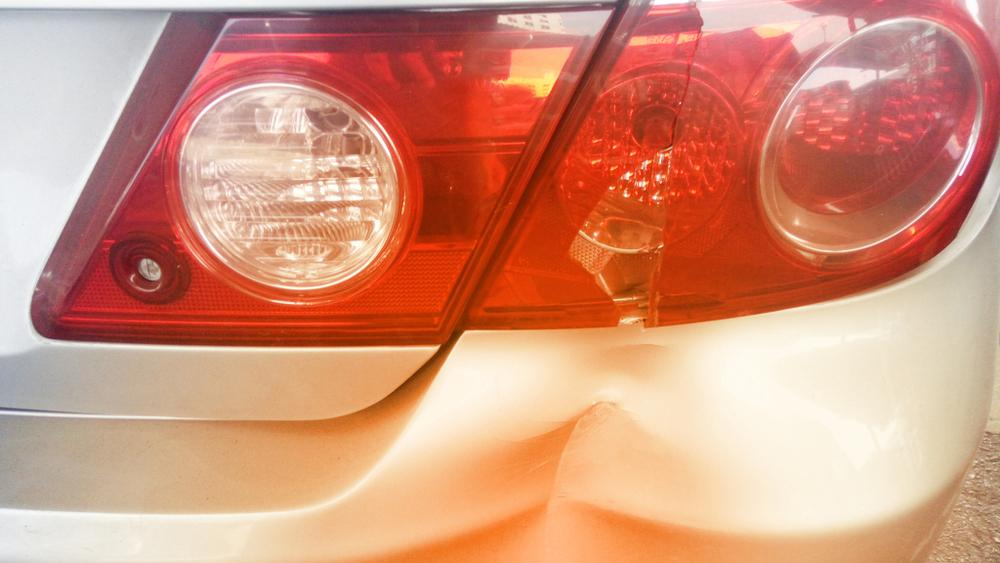dent: (480, 346, 675, 563)
lamp broken: (457, 0, 1000, 330)
